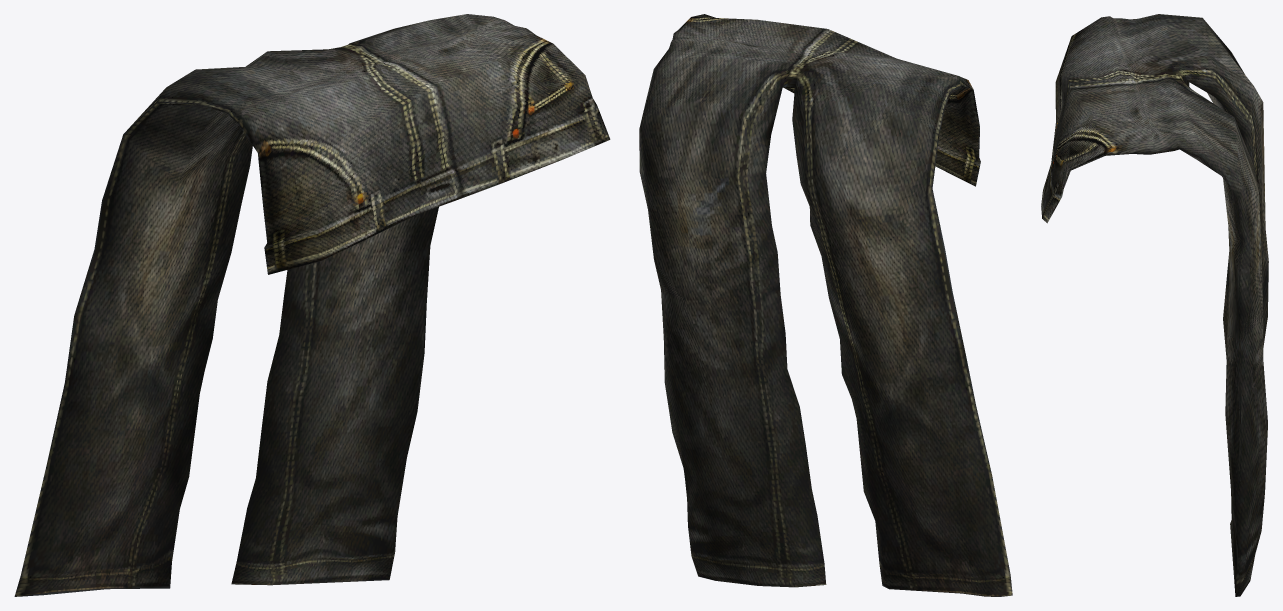
Rendered from jeans_hanging_sofa.dae.
The picture shows the model from 3 angles, left to right: view 1: azimuth 30°, elevation 25°; view 2: azimuth 150°, elevation 25°; view 3: azimuth 270°, elevation 25°; orthographic projection. The views are drawn at different scales.
Parts seen in each view (by area): view 1: jeans_hanging__2_; view 2: jeans_hanging__2_; view 3: jeans_hanging__2_.
Part boxes in pixels (x1,y1,x2,y2): jeans_hanging__2_: [14, 14, 610, 596]; jeans_hanging__2_: [639, 14, 1012, 596]; jeans_hanging__2_: [1041, 14, 1268, 596].
Bounding box in the file's own units: 0.7948 × 0.9251 × 0.3863.
